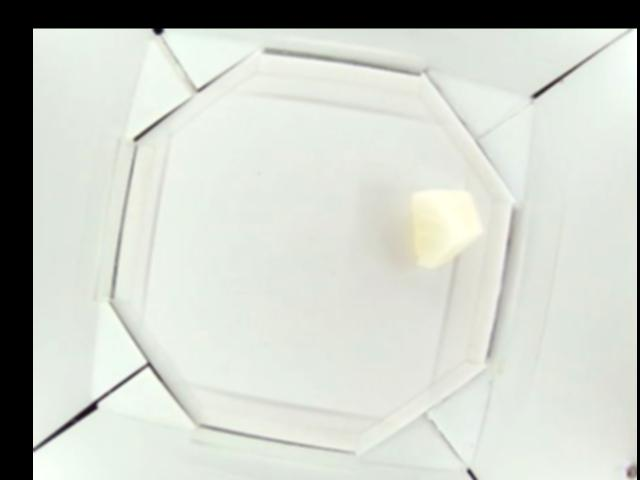Mooli: (409, 189, 484, 269)
